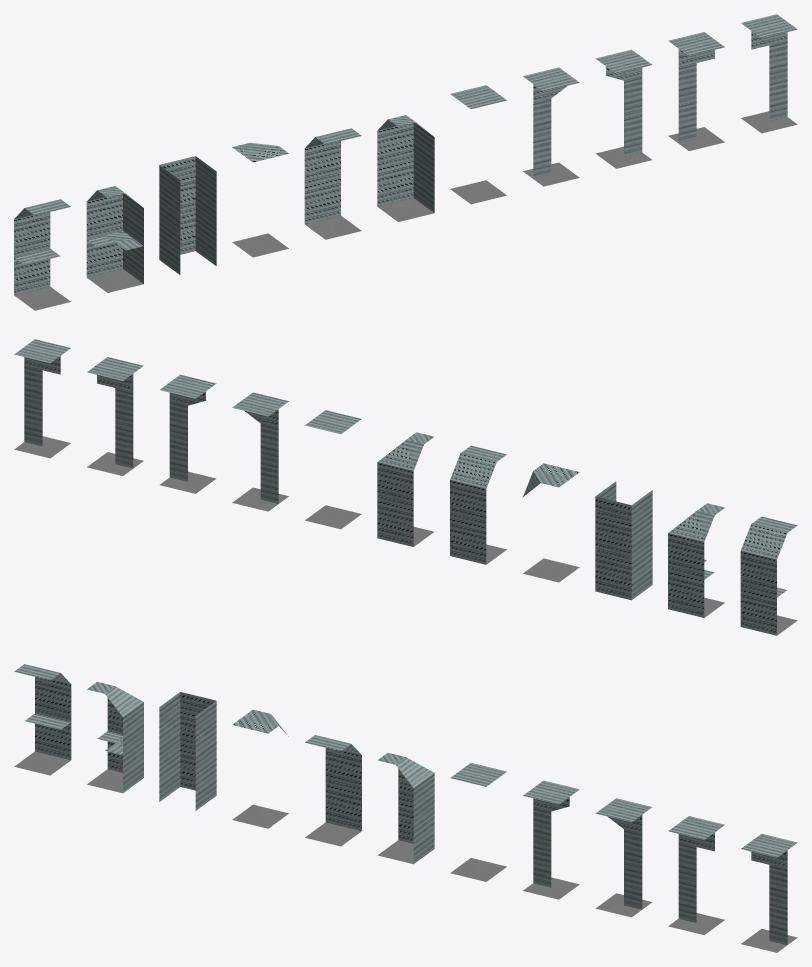
Rendered from tileset.glb.
The picture shows the model from 3 angles, top to bottom: view 1: azimuth 30°, elevation 25°; view 2: azimuth 150°, elevation 25°; view 3: azimuth 330°, elevation 25°; orthographic projection.
Visible parts, largest first — view 1: outside_wall-col, corner_shelf-col, corner_out-col, wall_shelf-col, wall-col, doorway_r-col, doorway_l-col, archway_r-col, archway_l-col, empty.col, corner_in-col; view 2: outside_wall-col, wall_shelf-col, wall-col, corner_shelf-col, corner_out-col, doorway_r-col, doorway_l-col, archway_r-col, archway_l-col, corner_in-col, empty.col; view 3: outside_wall-col, wall_shelf-col, wall-col, corner_shelf-col, corner_out-col, doorway_l-col, doorway_r-col, archway_l-col, archway_r-col, empty.col, corner_in-col.
Part boxes in pixels (<box>): outside_wall-col: <box>159,156,216,274</box>; corner_shelf-col: <box>86,186,143,292</box>; corner_out-col: <box>377,115,434,221</box>; wall_shelf-col: <box>14,199,70,310</box>; wall-col: <box>304,128,361,239</box>; doorway_r-col: <box>741,14,797,133</box>; doorway_l-col: <box>668,32,724,150</box>; archway_r-col: <box>595,49,651,168</box>; archway_l-col: <box>523,67,579,186</box>; empty.col: <box>450,85,506,204</box>; corner_in-col: <box>232,142,288,257</box>; outside_wall-col: <box>595,481,652,600</box>; wall_shelf-col: <box>740,516,797,635</box>; wall-col: <box>450,445,506,564</box>; corner_shelf-col: <box>668,503,724,617</box>; corner_out-col: <box>377,432,434,546</box>; doorway_r-col: <box>14,339,70,458</box>; doorway_l-col: <box>87,357,143,475</box>; archway_r-col: <box>160,374,216,493</box>; archway_l-col: <box>232,392,288,511</box>; corner_in-col: <box>523,463,579,582</box>; empty.col: <box>305,410,361,529</box>; outside_wall-col: <box>159,692,216,810</box>; wall_shelf-col: <box>14,664,71,775</box>; wall-col: <box>305,735,361,846</box>; corner_shelf-col: <box>87,682,143,793</box>; corner_out-col: <box>377,753,434,864</box>; doorway_l-col: <box>668,816,724,934</box>; doorway_r-col: <box>741,833,797,952</box>; archway_l-col: <box>523,780,579,899</box>; archway_r-col: <box>595,798,652,917</box>; empty.col: <box>450,763,506,881</box>; corner_in-col: <box>232,709,288,828</box>.
Bounding box in the file's own units: 21 × 2.5 × 1.
1 material, 1 textured.
